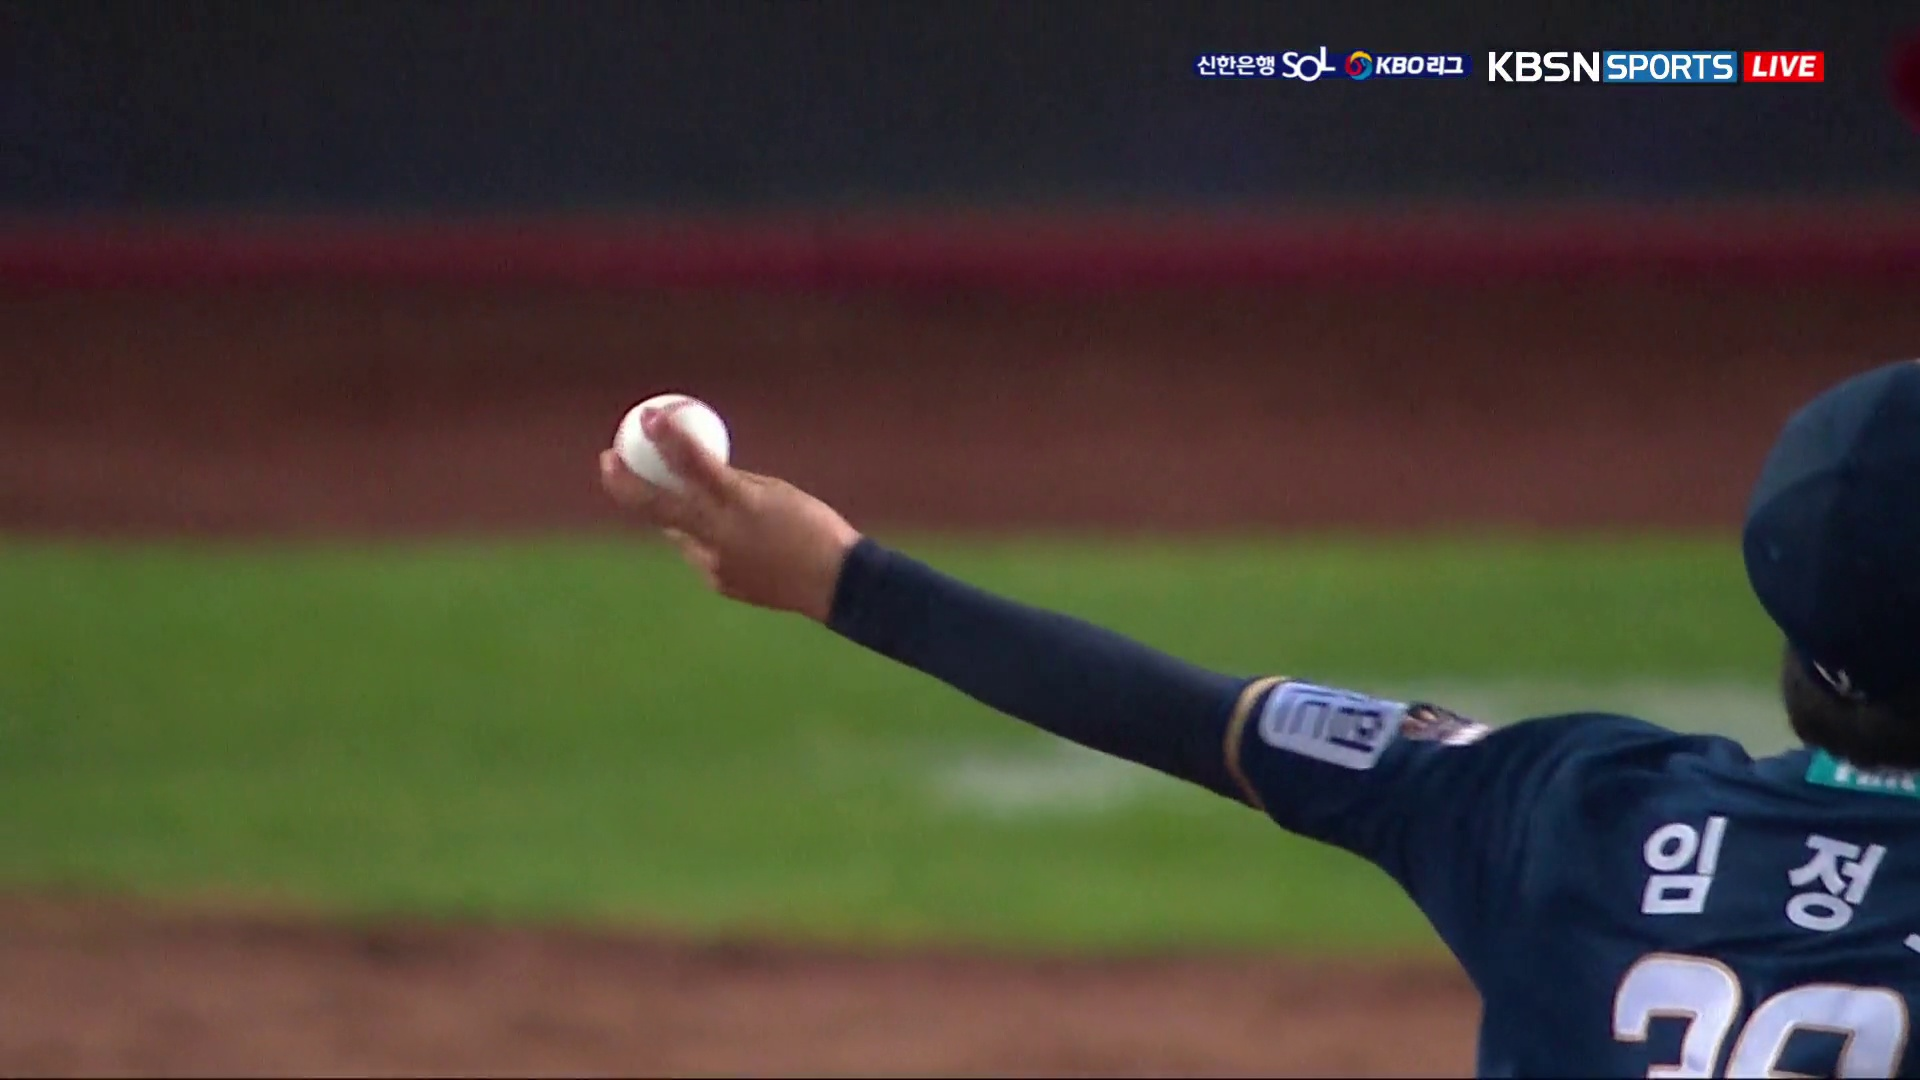zoomin_hand: (592, 380, 1317, 837)
